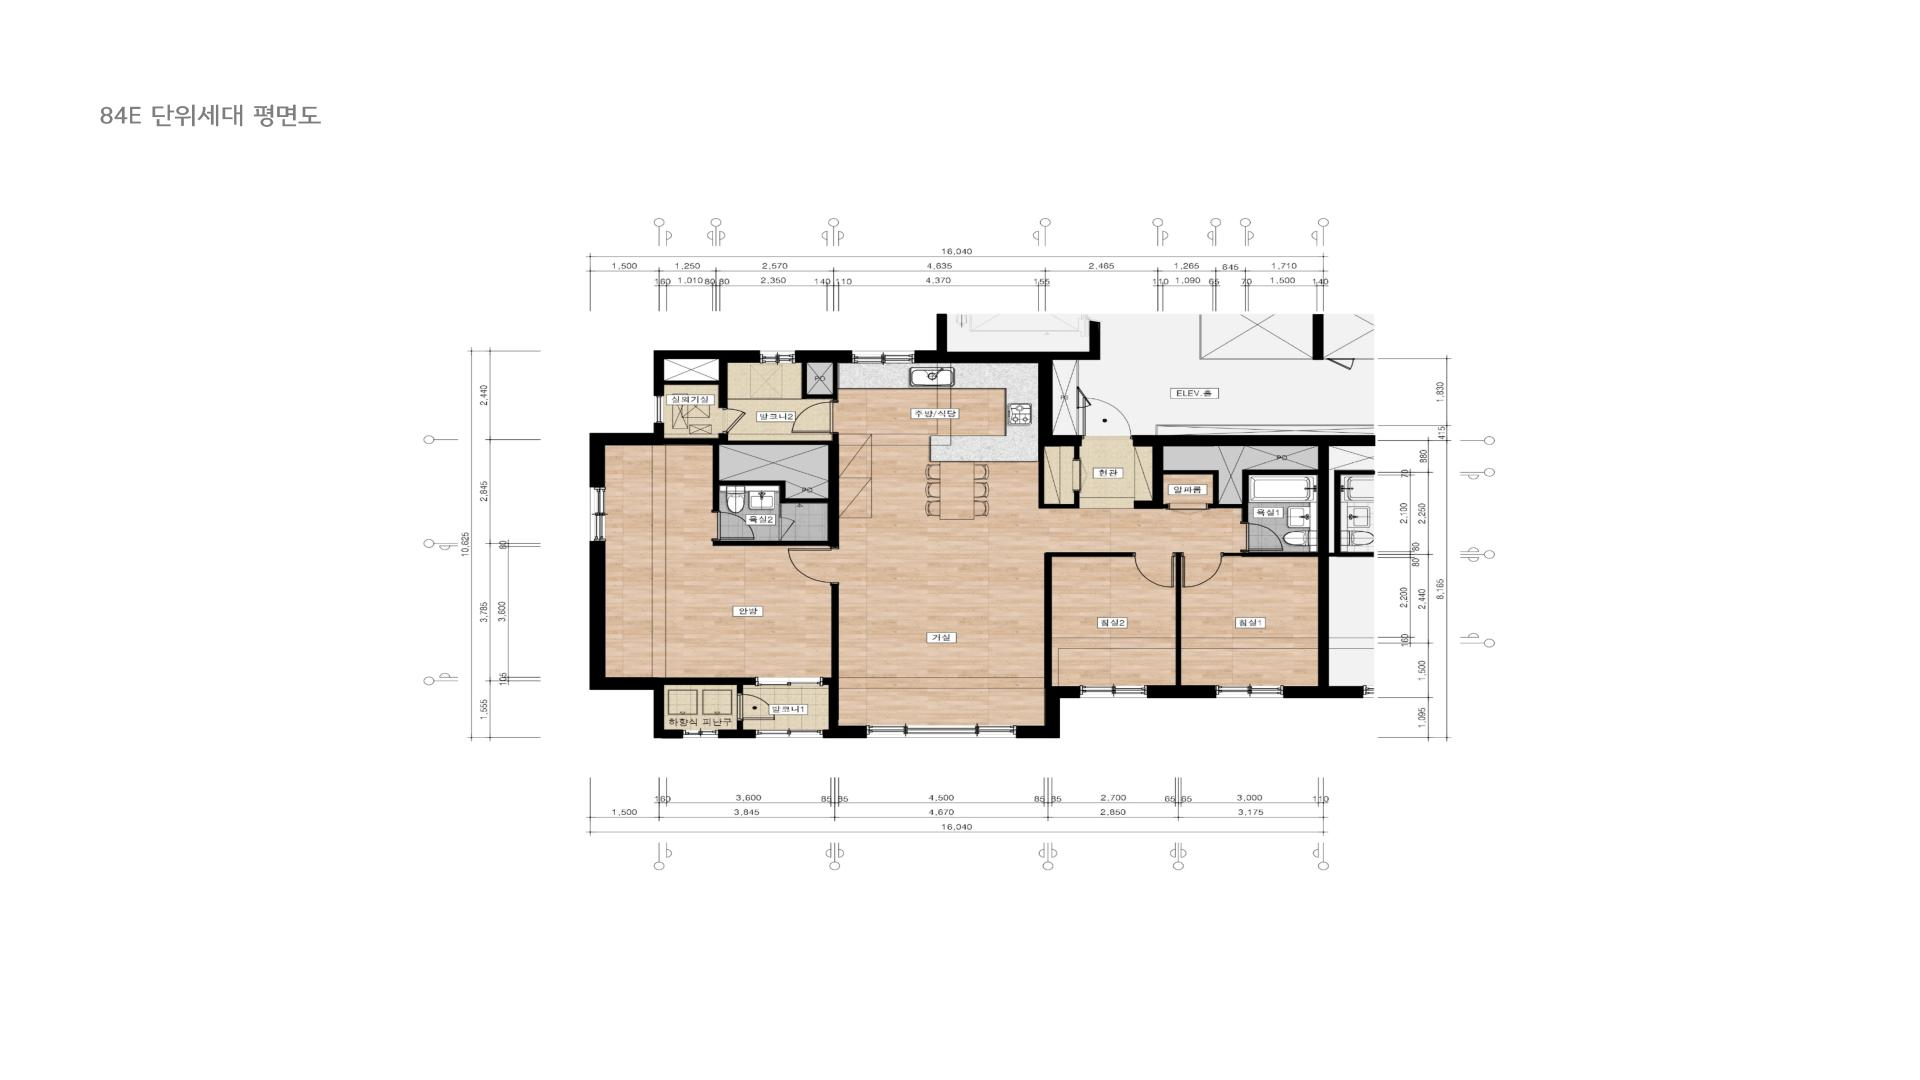door: (1083, 394, 1134, 438), (787, 546, 840, 585), (791, 401, 839, 434), (1182, 553, 1224, 588), (1133, 553, 1176, 587), (1240, 521, 1284, 553), (711, 510, 754, 541), (737, 694, 775, 720), (717, 409, 746, 434), (779, 504, 795, 541), (1327, 357, 1356, 371), (1076, 386, 1092, 409), (1166, 502, 1209, 510), (1072, 458, 1081, 492)
wall: (1134, 435, 1329, 699), (589, 541, 756, 738), (915, 314, 1101, 446), (589, 423, 839, 488), (713, 444, 840, 546), (1044, 551, 1134, 686), (1164, 469, 1319, 521), (823, 585, 868, 738), (1199, 314, 1313, 360), (654, 349, 761, 396), (1015, 686, 1080, 738), (665, 363, 728, 407), (1038, 447, 1080, 508), (1155, 425, 1374, 435), (802, 363, 839, 400), (1149, 684, 1216, 699), (795, 349, 853, 363), (1176, 553, 1182, 684), (719, 720, 756, 738), (1313, 314, 1324, 360), (1224, 553, 1319, 556), (1076, 360, 1079, 386), (1075, 447, 1080, 458), (1077, 409, 1079, 435), (1356, 359, 1374, 360), (1323, 359, 1327, 360)
window: (868, 725, 1015, 737), (1080, 684, 1147, 698), (1216, 684, 1283, 698), (589, 487, 605, 541), (853, 351, 914, 363), (756, 676, 822, 687), (756, 729, 823, 737), (761, 351, 795, 363), (683, 729, 719, 738), (654, 396, 663, 423)
